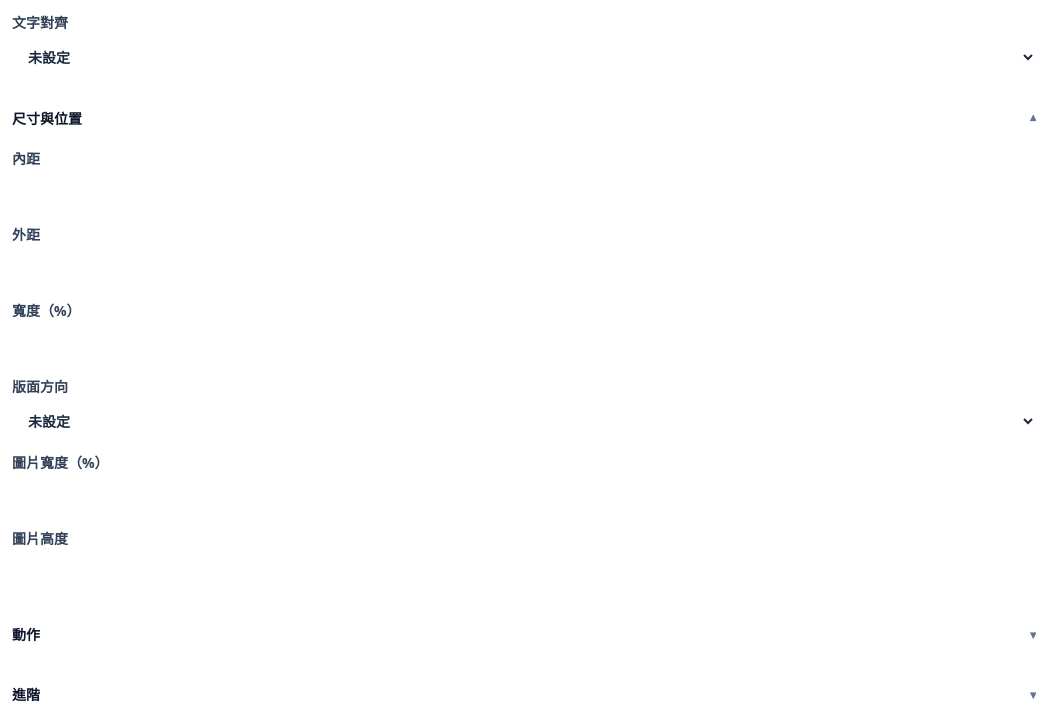
Scenario: button action picker: 開啟報名表 › flags a stored form that is no longer offered and blocks applying it
This screenshot has width=1048, height=713.
(page scrolled)
Click the button "動作 ▾" at (26, 634), box top-left (12, 617), bottom-right (1036, 653)
(page scrolled)
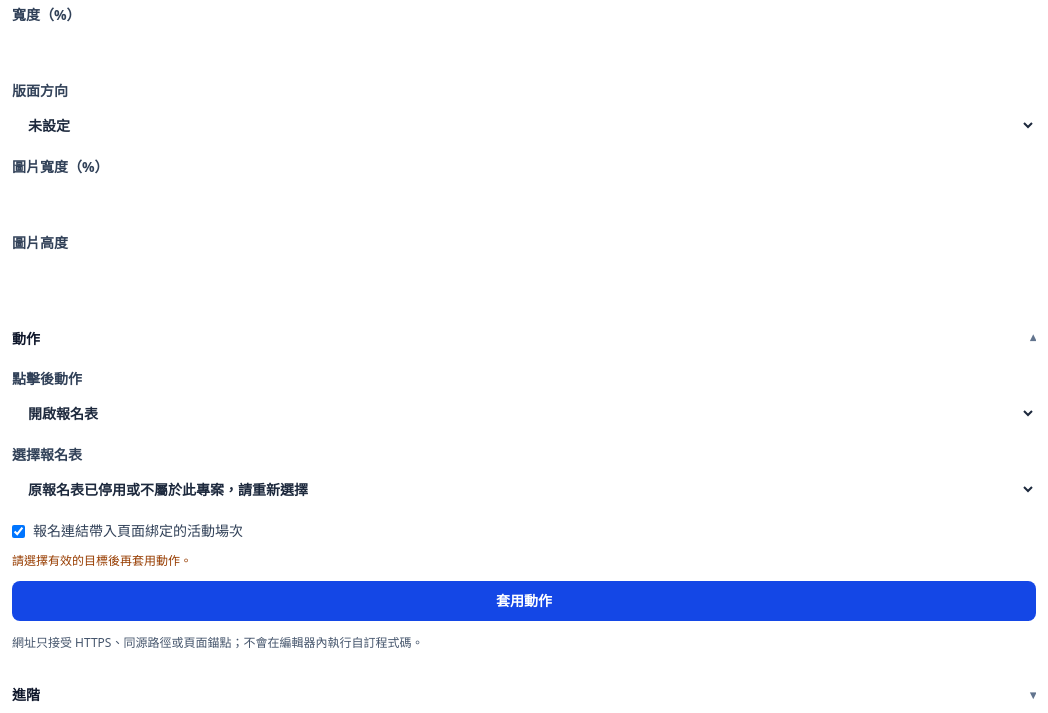
Now the dropdown labelled "選擇報名表" shows "原報名表已停用或不屬於此專案，請重新選擇", box top-left (12, 469), bottom-right (1036, 509)
Now the button "套用動作" is disabled, box top-left (12, 581), bottom-right (1036, 621)
